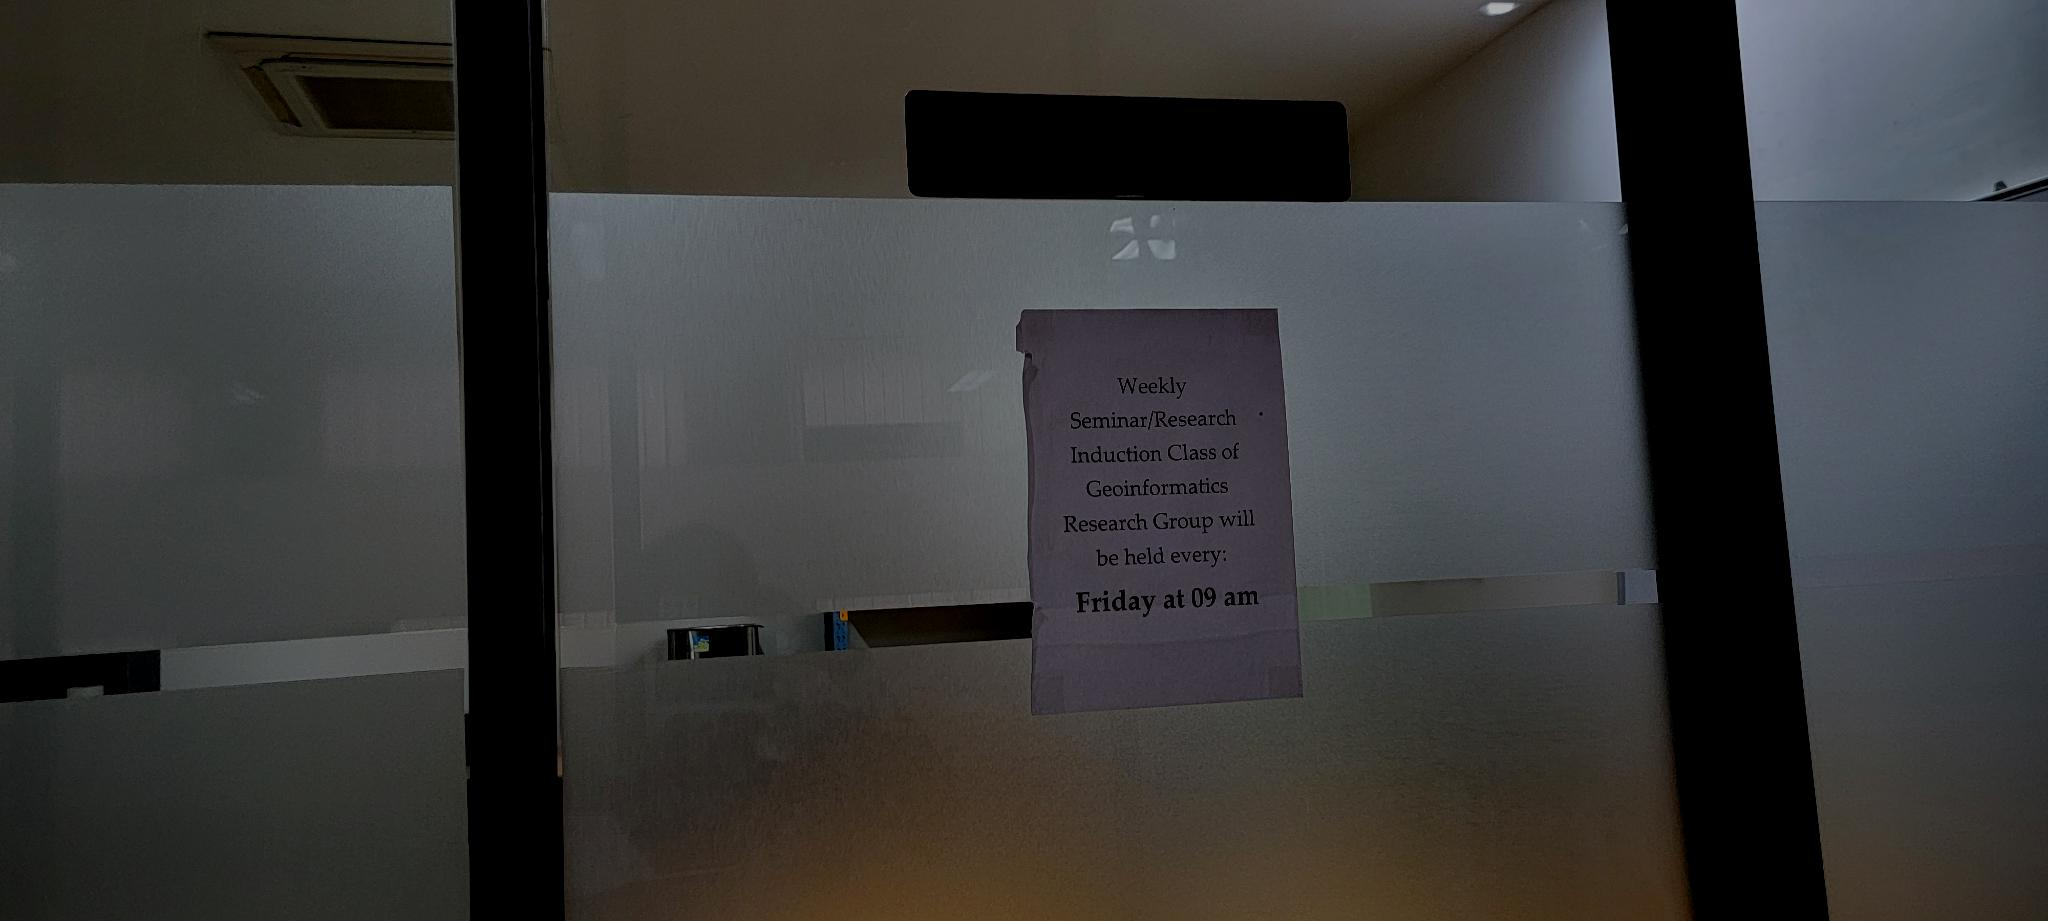plate: (904, 89, 1354, 200)
